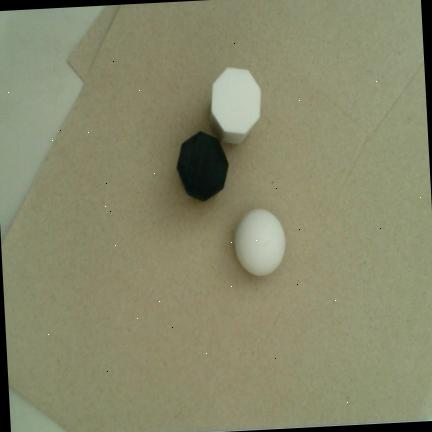Esfera: (235, 208, 286, 276)
Prisma_hexagonal: (210, 67, 261, 144), (177, 131, 229, 202)
